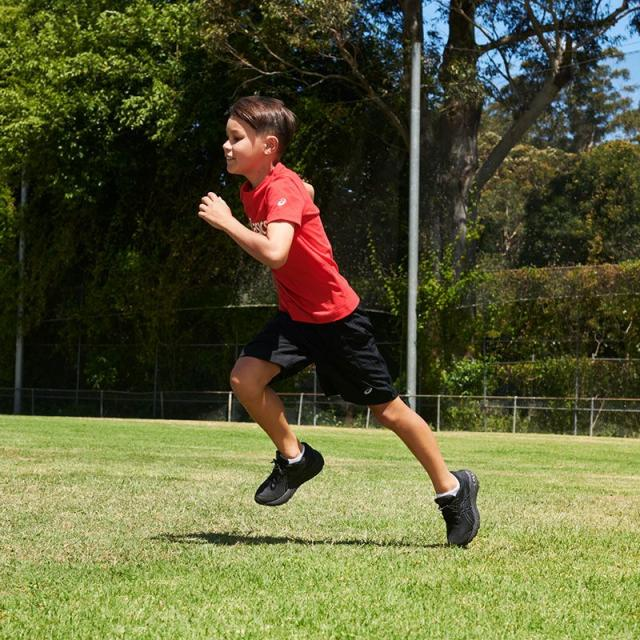Person: (198, 94, 480, 545)
